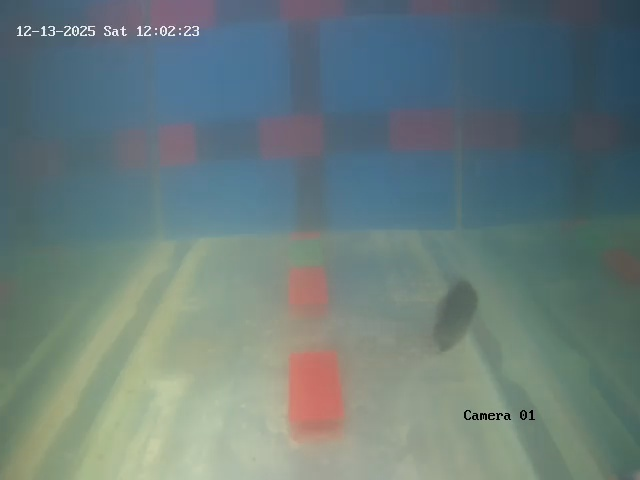fish: (418, 275, 489, 355)
